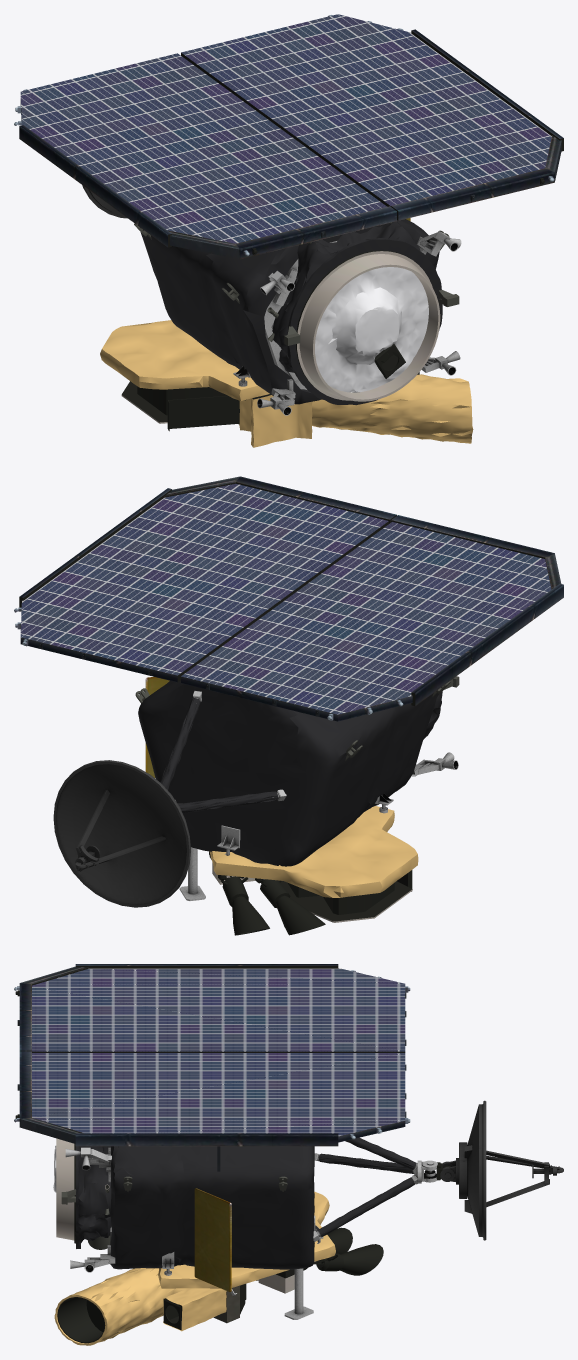
The model's file is deep-impact.glb.
3 renders of one model, top to bottom at view 1: azimuth 30°, elevation 25°; view 2: azimuth 150°, elevation 25°; view 3: azimuth 270°, elevation 25°, orthographic. The views are drawn at different scales.
Parts seen in each view (by area): view 1: shiny_panels, tex_01, black_krinkle, foil_gold, foil_silver_I, hole_AO; view 2: shiny_panels, black_krinkle, tex_01, dish_AO, foil_gold, hole_AO; view 3: shiny_panels, black_krinkle, tex_01, foil_gold, dish_AO, hole_AO.
Boxes of the visible parts, x1,y1,x2,y2 form: shiny_panels: [20, 14, 551, 243]; tex_01: [14, 15, 563, 431]; black_krinkle: [140, 219, 442, 405]; foil_gold: [100, 320, 473, 447]; foil_silver_I: [315, 267, 428, 392]; hole_AO: [233, 231, 461, 415]; shiny_panels: [20, 483, 551, 714]; black_krinkle: [138, 680, 442, 866]; tex_01: [14, 476, 563, 935]; dish_AO: [53, 760, 190, 907]; foil_gold: [209, 806, 418, 897]; hole_AO: [175, 691, 458, 900]; shiny_panels: [32, 968, 405, 1136]; black_krinkle: [75, 1137, 415, 1269]; tex_01: [14, 964, 450, 1343]; foil_gold: [54, 1191, 335, 1345]; dish_AO: [440, 1100, 563, 1240]; hole_AO: [65, 1147, 437, 1319].
Bounding box in the file's own units: 2.88 × 1.99 × 3.91.
9 materials, 5 textured.
